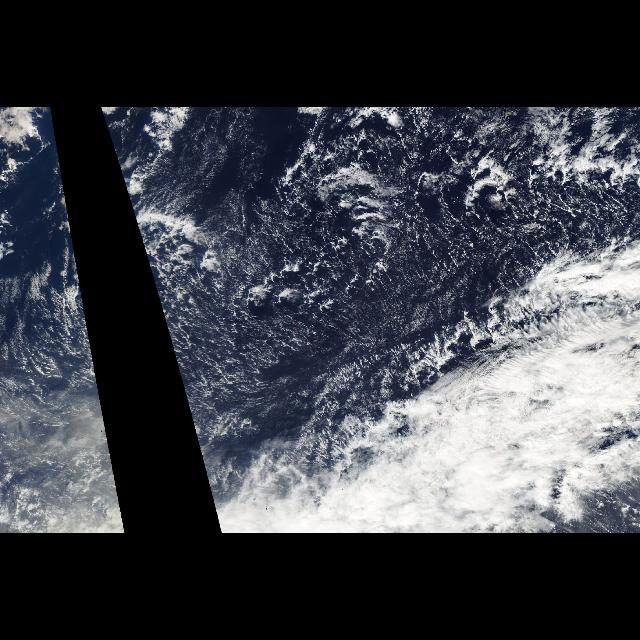Gravel: (150, 108, 640, 352)
Sugar: (100, 108, 638, 486), (0, 107, 110, 451)
